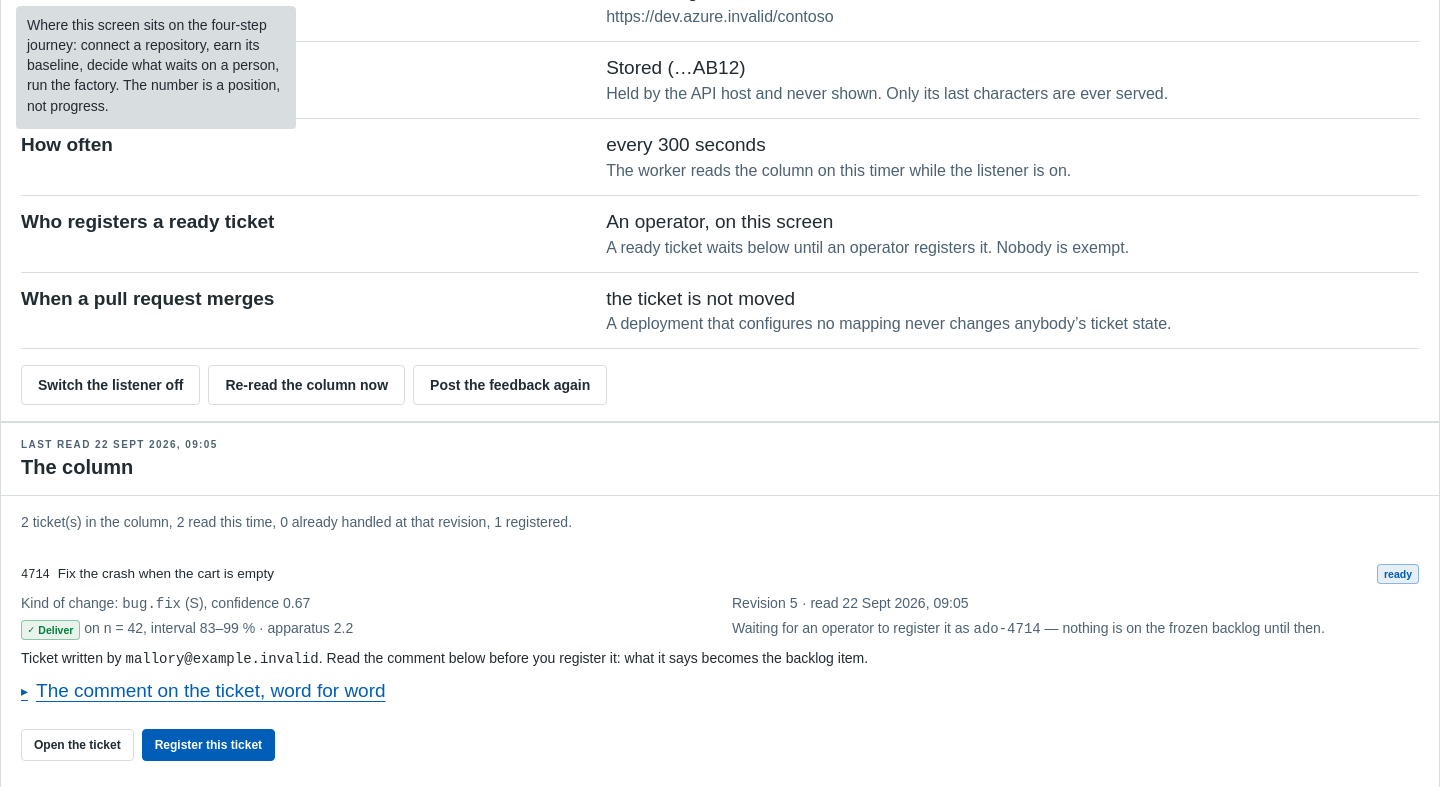
IntakePage — an operator registers a ready ticket (ADR-0022) › a ready ticket waits for an operator, who registers the revision they read
(page scrolled)
Check: the list item with test id "intake-row-4714" shows "Waiting for an operator to register it", box left=732, top=620, right=974, bottom=636
Check: the list item with test id "intake-row-4714" shows "mallory@example.invalid", box left=126, top=651, right=319, bottom=667
Step 1. Click the button "Register this ticket" → {"x": 208, "y": 745}, box left=142, top=729, right=275, bottom=761
(page scrolled)
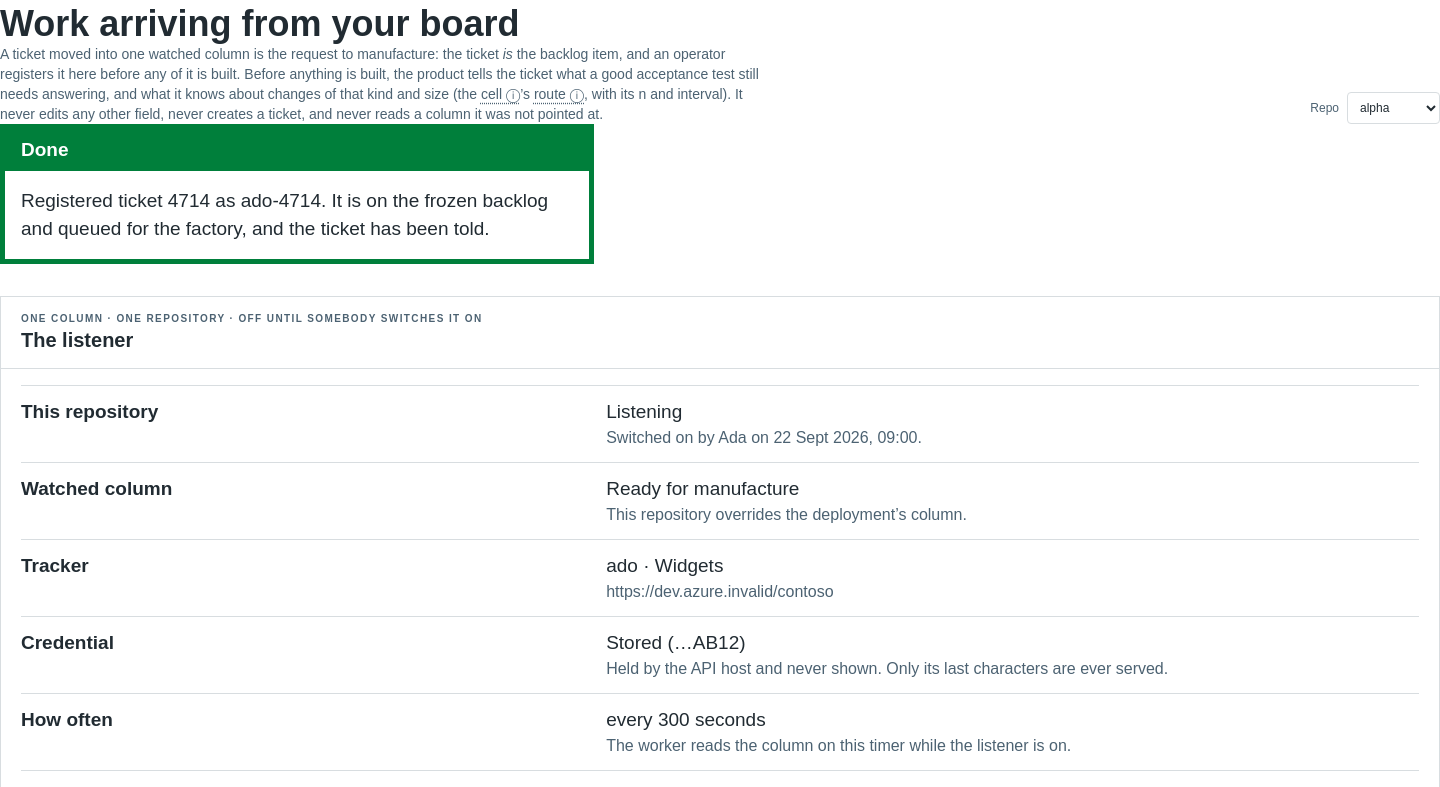
Check: the message with test id "intake-success" shows "Registered ticket 4714 as ado-4714", box left=21, top=190, right=548, bottom=239
Check: the message with test id "intake-success" shows "the ticket has been told", box left=21, top=190, right=548, bottom=239
